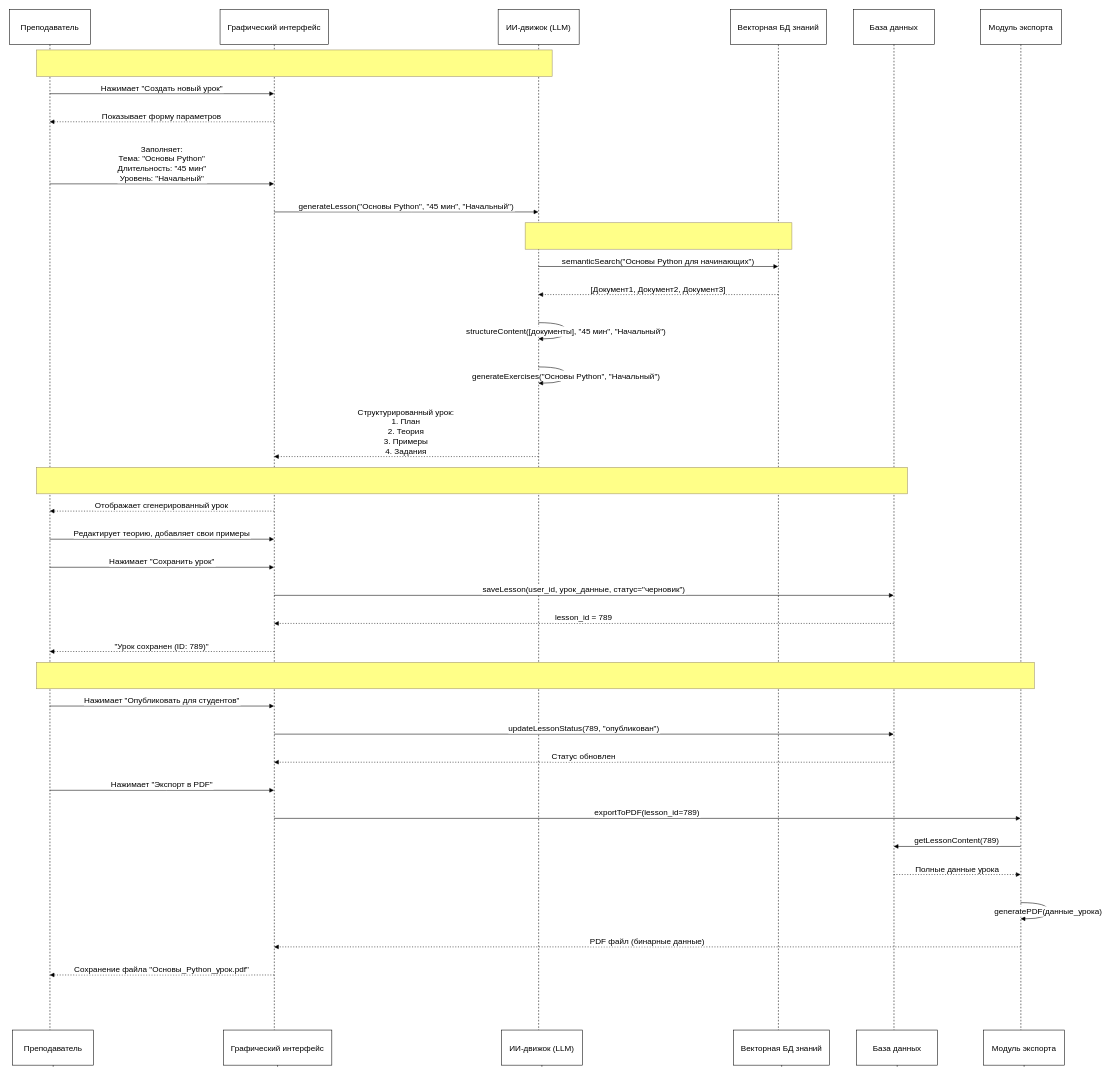
Some shapes in this 1112 by 1077 pixel diagram are drawn without their labels. The shapes that lost their labels are listed below. From the top down, each one's box as (x1, y1, x2, y2) in pixels, then its label:
(36, 49, 552, 76): Шаг 1: Запрос на генерацию урока
(525, 222, 792, 249): Шаг 2: Поиск и генерация контента
(36, 467, 907, 494): Шаг 3: Редактирование и сохранение
(36, 662, 1034, 689): Шаг 4: Публикация и экспорт
